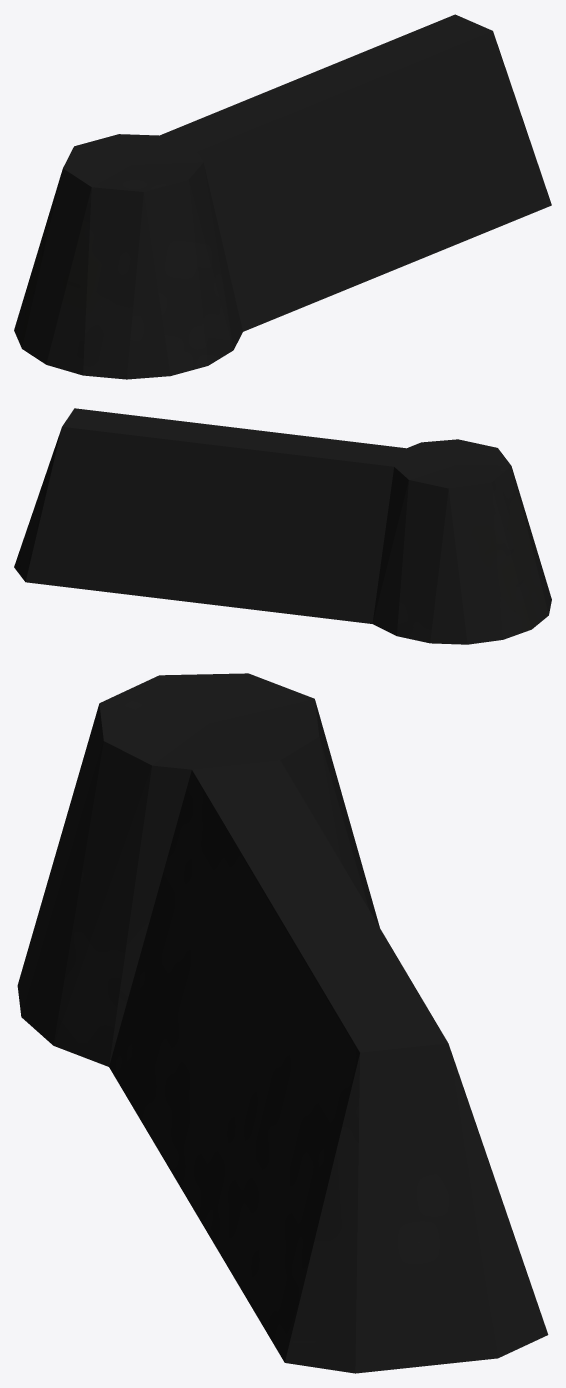
The model's file is mesh4.dat.obj.
3 views of the same model, one above another, from view 1: azimuth 30°, elevation 25°; view 2: azimuth 150°, elevation 25°; view 3: azimuth 270°, elevation 25° (orthographic). The views are drawn at different scales.
Visible parts, largest first — view 1: Plastic_Peg_low; view 2: Plastic_Peg_low; view 3: Plastic_Peg_low.
Boxes of the visible parts, box(x1,y1,x2,y2) form: Plastic_Peg_low: box(14, 14, 551, 379); Plastic_Peg_low: box(14, 408, 551, 644); Plastic_Peg_low: box(17, 673, 548, 1373).
Size of the model in its own units: 0.7341 by 0.2101 by 0.3607.
1 material, 1 textured.
